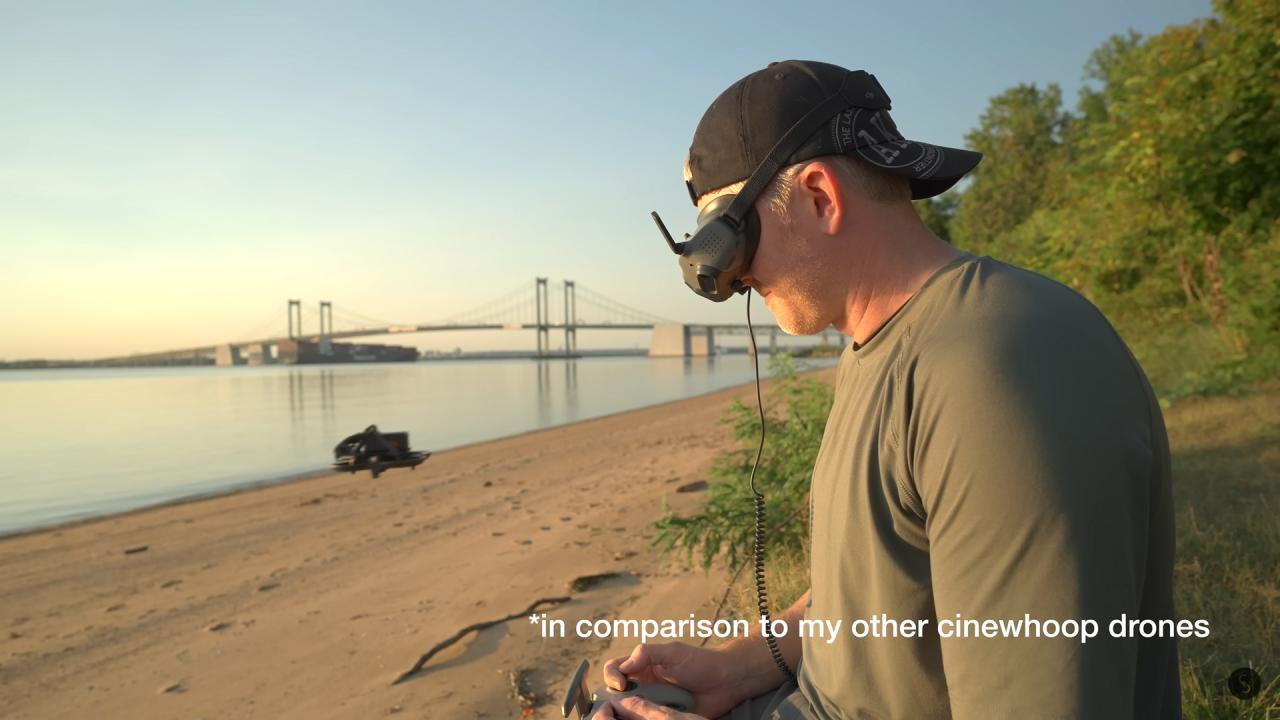Drone: (313, 413, 445, 488)
